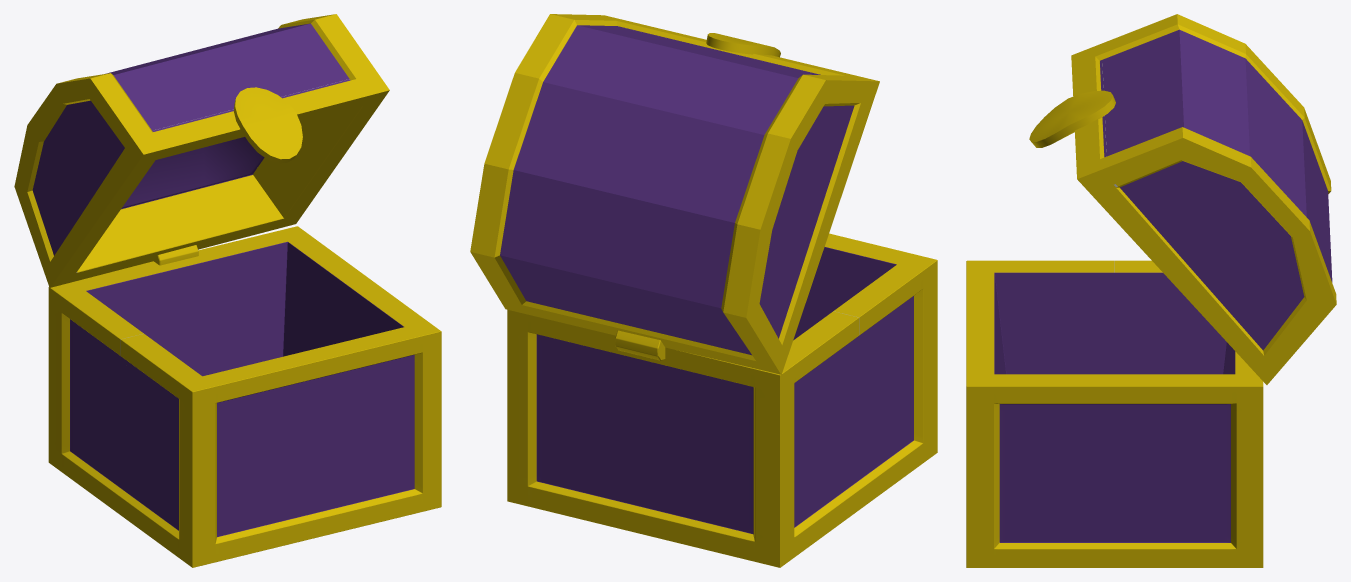
Rendered from cofre_04.fbx.
3 views of the same model, side by side, from view 1: azimuth 30°, elevation 25°; view 2: azimuth 150°, elevation 25°; view 3: azimuth 270°, elevation 25° (orthographic). The views are drawn at different scales.
Parts seen in each view (by area): view 1: polySurface1; view 2: polySurface1; view 3: polySurface1.
Boxes of the visible parts, x1=… form: polySurface1: x1=14, y1=14, x2=441, y2=567; polySurface1: x1=470, y1=14, x2=937, y2=567; polySurface1: x1=966, y1=14, x2=1336, y2=567.
Size of the model in its own units: 105 by 165 by 129.
